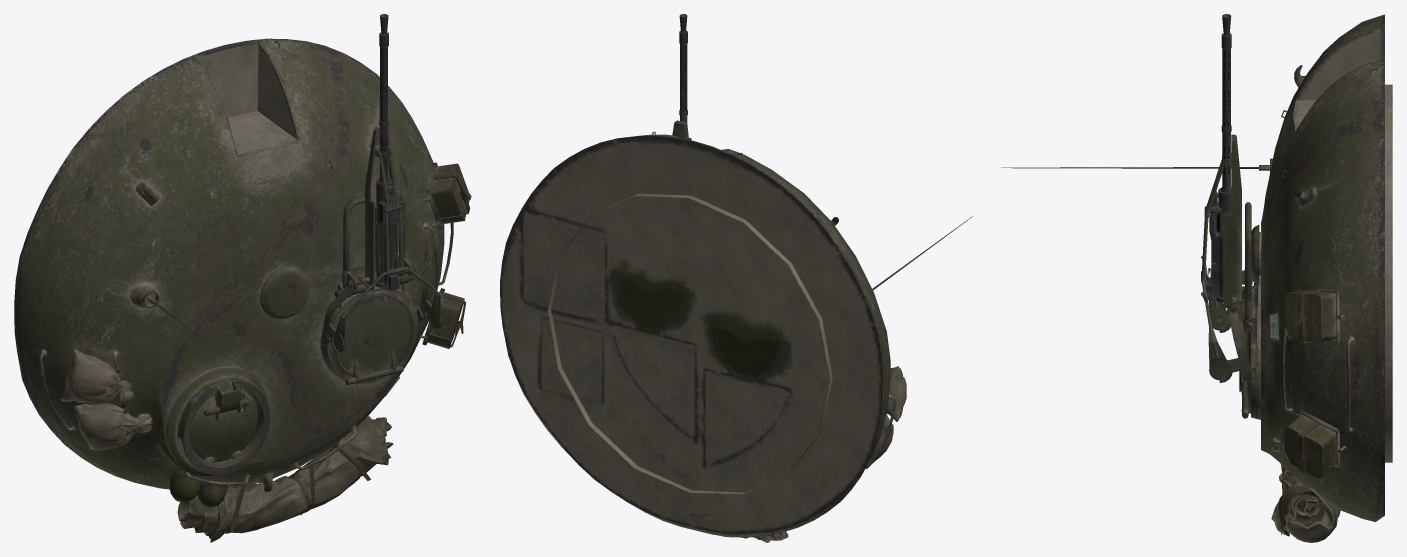
The model's file is Turret_01.glb.
3 views of the same model, side by side, from view 1: azimuth 30°, elevation 25°; view 2: azimuth 150°, elevation 25°; view 3: azimuth 270°, elevation 25° (orthographic). The views are drawn at different scales.
Parts seen in each view (by area): view 1: set_0_group_0; view 2: set_0_group_0; view 3: set_0_group_0.
Boxes of the visible parts, bbox=[...] form: set_0_group_0: bbox=[14, 14, 471, 542]; set_0_group_0: bbox=[500, 14, 972, 542]; set_0_group_0: bbox=[1001, 14, 1392, 542].
Bounding box in the file's own units: 3.25 × 3.81 × 2.46.
Materials: 1 (1 with a texture image).
